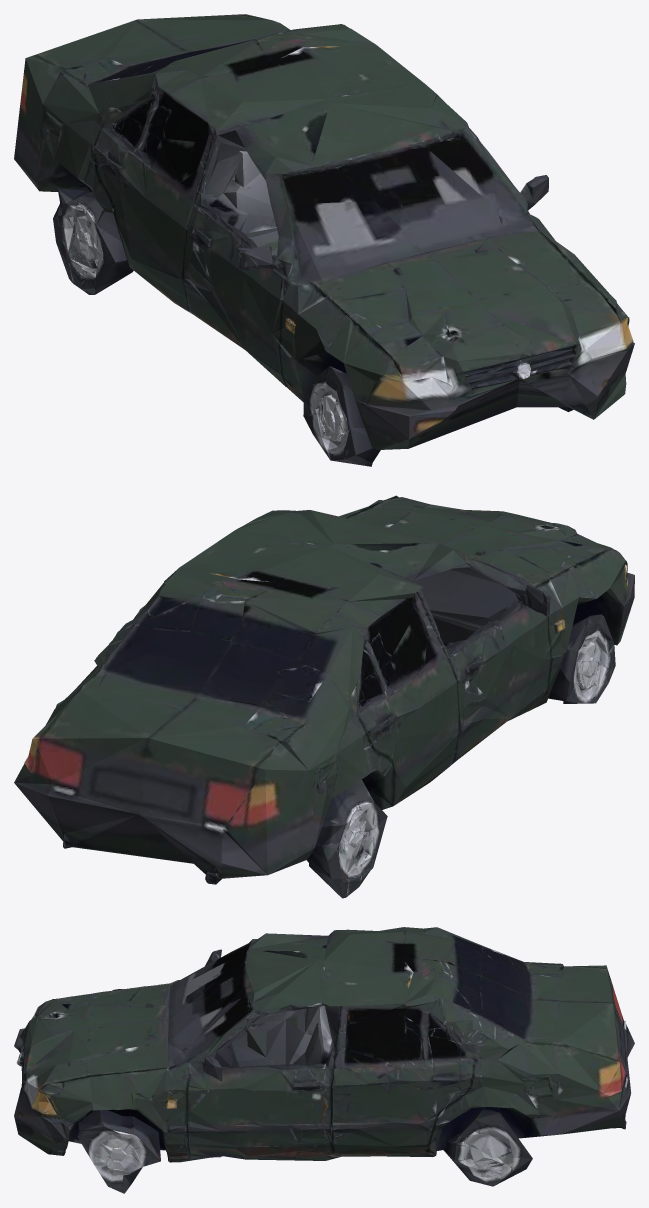
File: car.glb
The picture shows the model from 3 angles, top to bottom: view 1: azimuth 30°, elevation 25°; view 2: azimuth 150°, elevation 25°; view 3: azimuth 270°, elevation 25°; orthographic projection. The views are drawn at different scales.
Parts seen in each view (by area): view 1: geometry_0; view 2: geometry_0; view 3: geometry_0.
Boxes of the visible parts, left/top/right/bottom form: geometry_0: left=14, top=14, right=634, bottom=466; geometry_0: left=14, top=495, right=634, bottom=898; geometry_0: left=14, top=927, right=634, bottom=1193.
Bounding box in the file's own units: 0.4401 × 0.3315 × 0.9907.
Materials: 1 (1 with a texture image).
